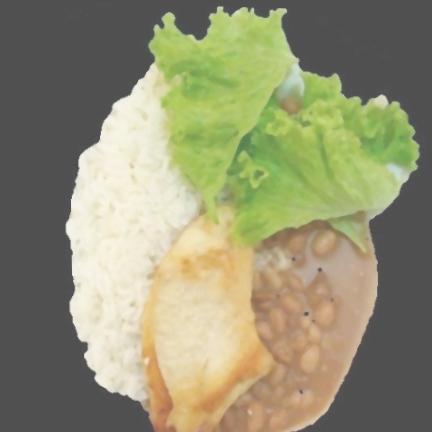beans: (220, 224, 376, 432)
chicken: (143, 207, 272, 432)
rice: (66, 65, 201, 402)
salad: (149, 7, 418, 248)
